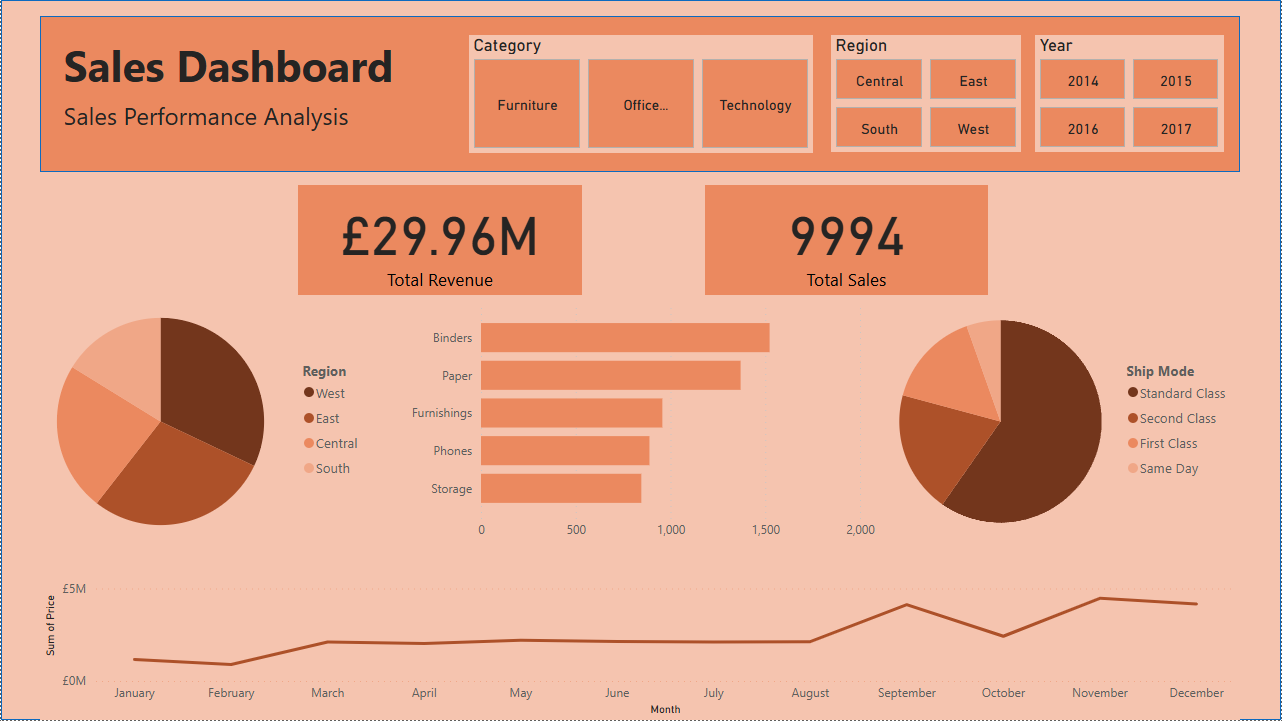

The page's visual inventory and layout, read from the dashboard file:
{"tool":"powerbi","page":{"name":"Page 1","canvas":[1280,720],"ordinal":0},"visuals":[{"type":"shape","box":[0,0,1280,719.8],"z":0},{"type":"shape","box":[39.5,16.3,1199.9,155.6],"z":1000},{"type":"pieChart","fields":{"Category":["dim_cust.Region"],"Y":["CountNonNull(fact_order.Customer ID)"]},"box":[11.6,286.9,360.1,269.5],"z":2000},{"type":"pieChart","fields":{"Category":["fact_order.Ship Mode"],"Y":["CountNonNull(dim_cust.Customer ID)"]},"box":[867.7,286.9,371.7,269.5],"z":3000},{"type":"card","fields":{"Values":["Sum(fact_order.Price)"]},"box":[297.4,184.7,283.4,110.3],"z":4000},{"type":"card","fields":{"Values":["Count(fact_order.Customer ID)"]},"box":[703.9,184.7,283.4,110.3],"z":5000},{"type":"barChart","fields":{"Category":["fact_order.Sub-Category"],"Y":["CountNonNull(fact_order.Product ID)"]},"box":[399.6,295,479.7,253.2],"z":6000},{"type":"lineChart","fields":{"Y":["Sum(fact_order.Price)"],"Category":["fact_order.Order Date.Variation.Date Hierarchy.Month"]},"box":[39.5,556.4,1199.9,163.8],"z":7000},{"type":"advancedSlicerVisual","fields":{"Values":["dim_cust.Region"]},"box":[830.5,34.8,189.3,117.3],"z":8000},{"type":"advancedSlicerVisual","fields":{"Values":["dim_product.Category"]},"box":[468.1,34.8,343.8,118.5],"z":9000},{"type":"advancedSlicerVisual","fields":{"Values":["fact_order.Order Date.Variation.Date Hierarchy.Year"]},"box":[1033.8,34.8,189.3,117.3],"z":10000},{"type":"textbox","box":[58.1,31.4,368.2,68.5],"z":11000},{"type":"textbox","box":[58.1,94.1,322.9,58.1],"z":12000}]}

Visuals, with their boxes in screenshot pixels (x1, y1, x2, y2), scaled from the page's 1280x720 canvas onto the 1282x721 screenshot:
shape: box=[0, 0, 1281, 720]
shape: box=[40, 16, 1241, 172]
pieChart - dim_cust.Region x CountNonNull(fact_order.Customer ID): box=[12, 287, 372, 557]
pieChart - fact_order.Ship Mode x CountNonNull(dim_cust.Customer ID): box=[869, 287, 1241, 557]
card - Sum(fact_order.Price): box=[298, 185, 582, 295]
card - Count(fact_order.Customer ID): box=[705, 185, 989, 295]
barChart - fact_order.Sub-Category x CountNonNull(fact_order.Product ID): box=[400, 295, 881, 549]
lineChart - Sum(fact_order.Price) x fact_order.Order Date.Variation.Date Hierarchy.Month: box=[40, 557, 1241, 720]
advancedSlicerVisual - dim_cust.Region: box=[832, 35, 1021, 152]
advancedSlicerVisual - dim_product.Category: box=[469, 35, 813, 154]
advancedSlicerVisual - fact_order.Order Date.Variation.Date Hierarchy.Year: box=[1035, 35, 1225, 152]
textbox: box=[58, 31, 427, 100]
textbox: box=[58, 94, 382, 152]
